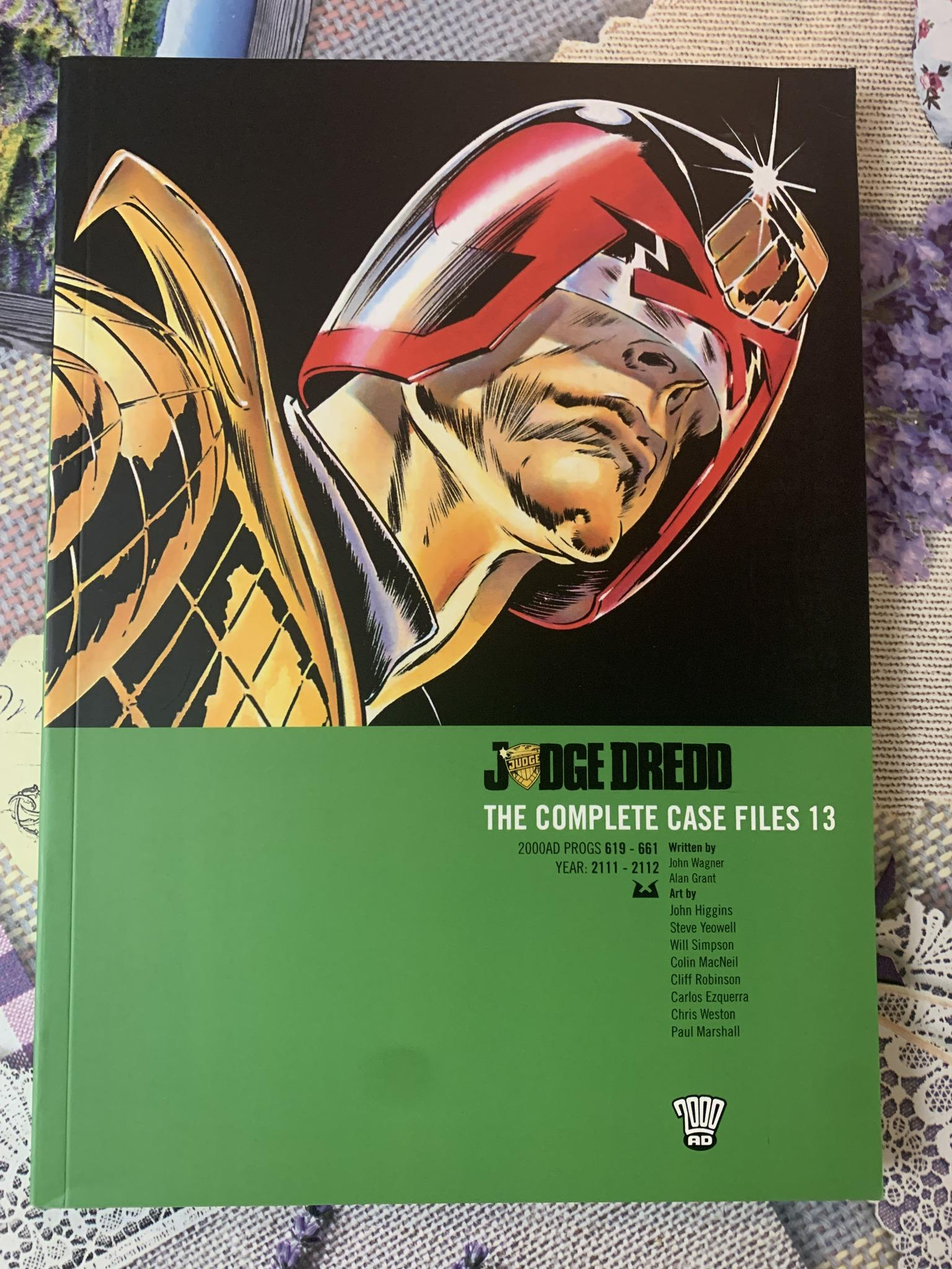comic: (23, 54, 880, 1206)
